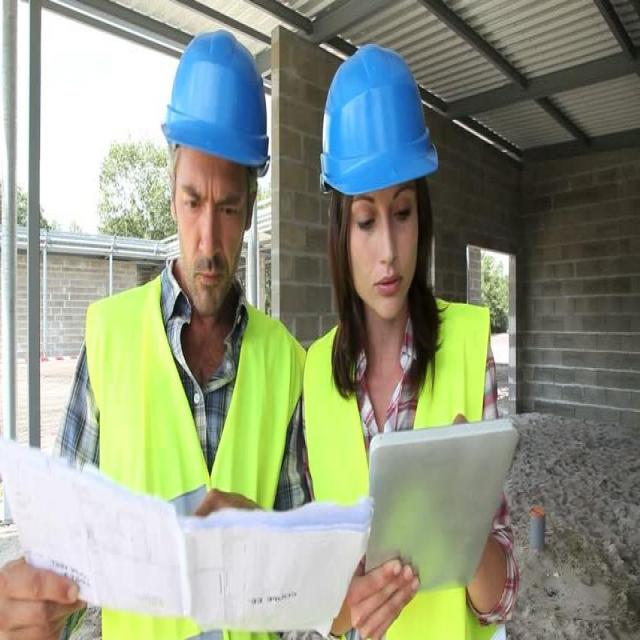Reflective-Jacket: (83, 281, 300, 639), (305, 303, 493, 637)
Safety-Helmet: (316, 37, 442, 200), (157, 25, 273, 175)
